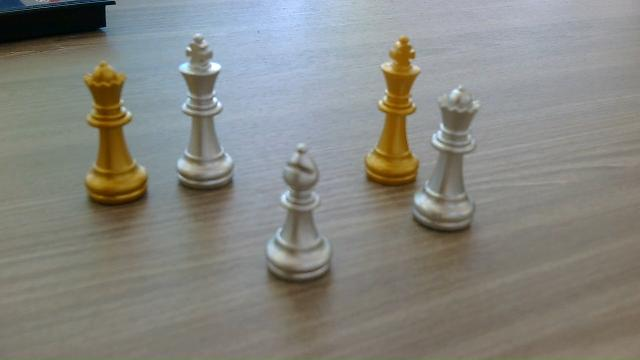black_king: (365, 35, 419, 183)
black_queen: (83, 60, 140, 201)
white_bishop: (267, 141, 331, 279)
white_king: (177, 32, 233, 188)
white_queen: (431, 83, 482, 232)
